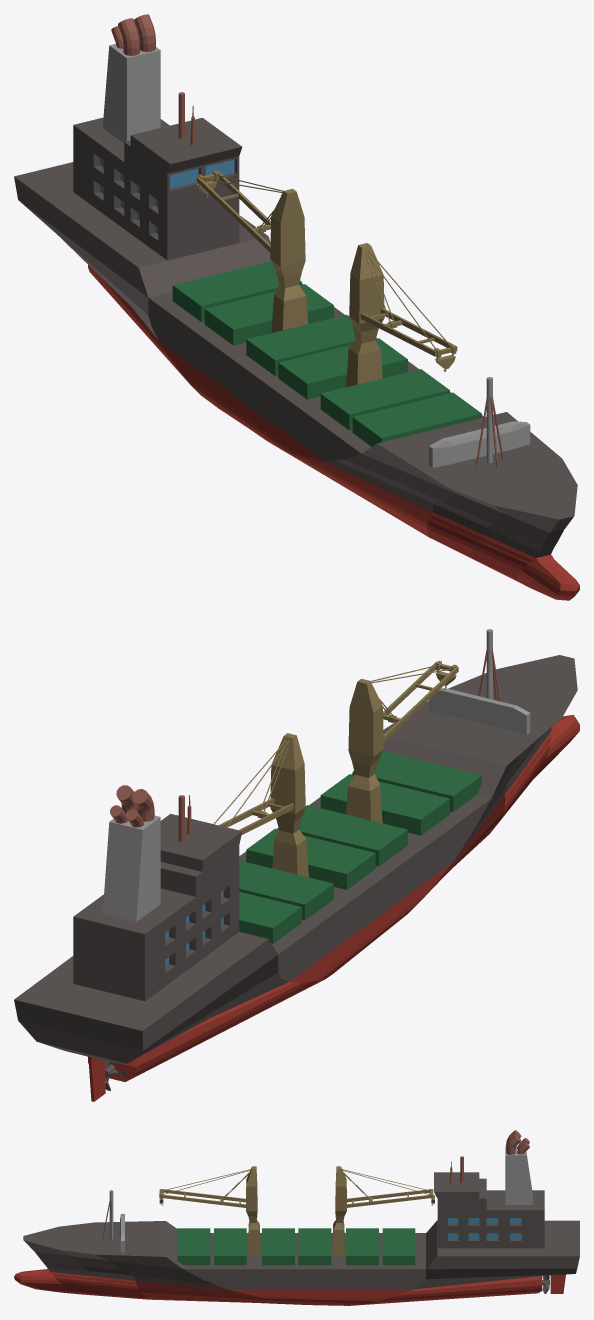
Rendered from Ship.fbx.
3 renders of one model, top to bottom at view 1: azimuth 30°, elevation 25°; view 2: azimuth 150°, elevation 25°; view 3: azimuth 270°, elevation 25°, orthographic. The views are drawn at different scales.
Visible parts, largest first — view 1: Cube.022, Cube.002, Cube.007, Cube.001, Cube.003, Cube.006, Cube.008; view 2: Cube.022, Cube.002, Cube.007, Cube.001, Cube.003, Cube.006, Cube.004; view 3: Cube.022, Cube.001, Cube.002, Cube.007, Cube.003, Cube.006, Cube.008, Cube.004.
Part boxes in pixels (box(x1,y1,x2,y2)): Cube.022: box(14, 117, 577, 557); Cube.002: box(172, 261, 481, 446); Cube.007: box(196, 170, 457, 387); Cube.001: box(88, 265, 579, 600); Cube.003: box(102, 44, 530, 467); Cube.006: box(111, 14, 503, 467); Cube.008: box(100, 158, 234, 233); Cube.022: box(14, 655, 577, 1063); Cube.002: box(239, 751, 481, 943); Cube.007: box(213, 661, 458, 877); Cube.001: box(88, 715, 579, 1081); Cube.003: box(102, 629, 530, 921); Cube.006: box(110, 648, 500, 841); Cube.004: box(88, 1056, 105, 1101); Cube.022: box(23, 1172, 579, 1289); Cube.001: box(14, 1268, 542, 1305); Cube.002: box(177, 1228, 415, 1265); Cube.007: box(159, 1166, 434, 1254); Cube.003: box(109, 1146, 532, 1252); Cube.006: box(102, 1130, 529, 1242); Cube.008: box(448, 1218, 521, 1238); Cube.004: box(550, 1274, 565, 1293).
Bounding box in the file's own units: 1909 × 3972 × 12648.
